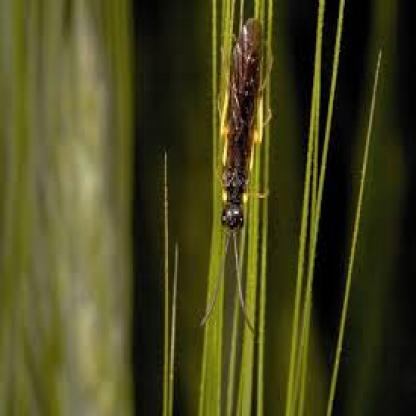sawfly: (201, 13, 275, 348)
